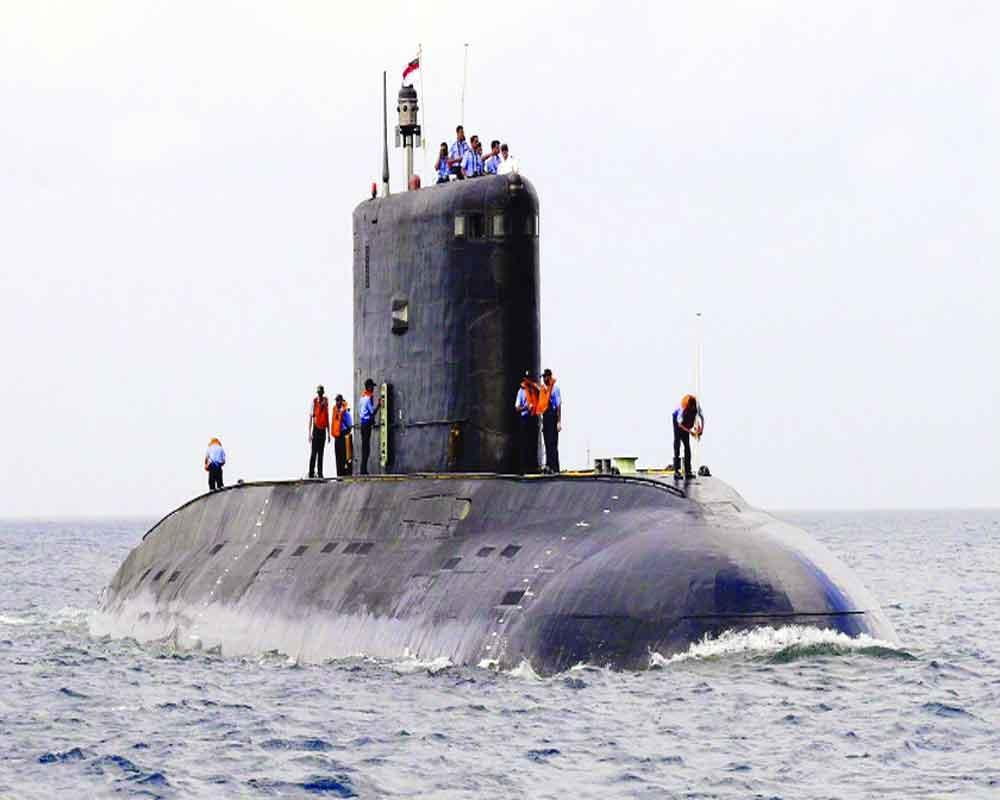Submarine: (0, 0, 982, 764)
